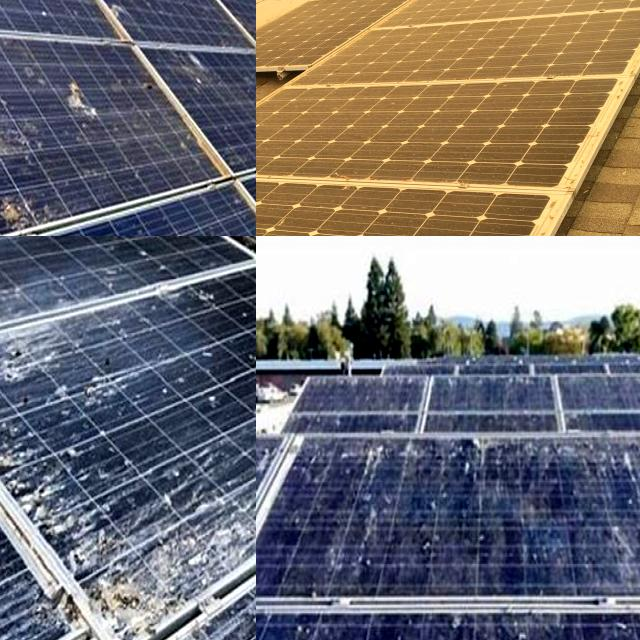bird: (70, 553, 179, 640), (11, 450, 77, 559), (0, 161, 50, 236), (186, 505, 256, 549), (0, 98, 43, 169), (60, 82, 110, 131), (0, 348, 36, 414), (0, 142, 20, 231), (0, 0, 25, 39), (0, 544, 22, 583)
